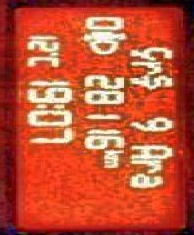0: (21, 109, 72, 125), (81, 14, 121, 30)
1: (78, 110, 120, 120), (23, 76, 69, 85), (81, 125, 121, 134), (20, 33, 58, 39)
2: (81, 73, 121, 89), (23, 39, 58, 51)
6: (81, 134, 123, 148)
7: (25, 125, 74, 144)
8: (78, 89, 123, 104)
9: (21, 85, 72, 101), (125, 114, 171, 131)
X: (123, 44, 172, 60), (125, 74, 174, 89), (125, 143, 171, 158), (125, 173, 163, 188), (125, 159, 160, 173), (127, 60, 160, 74), (20, 55, 58, 66), (98, 155, 118, 166), (29, 103, 65, 108), (98, 148, 123, 155)
